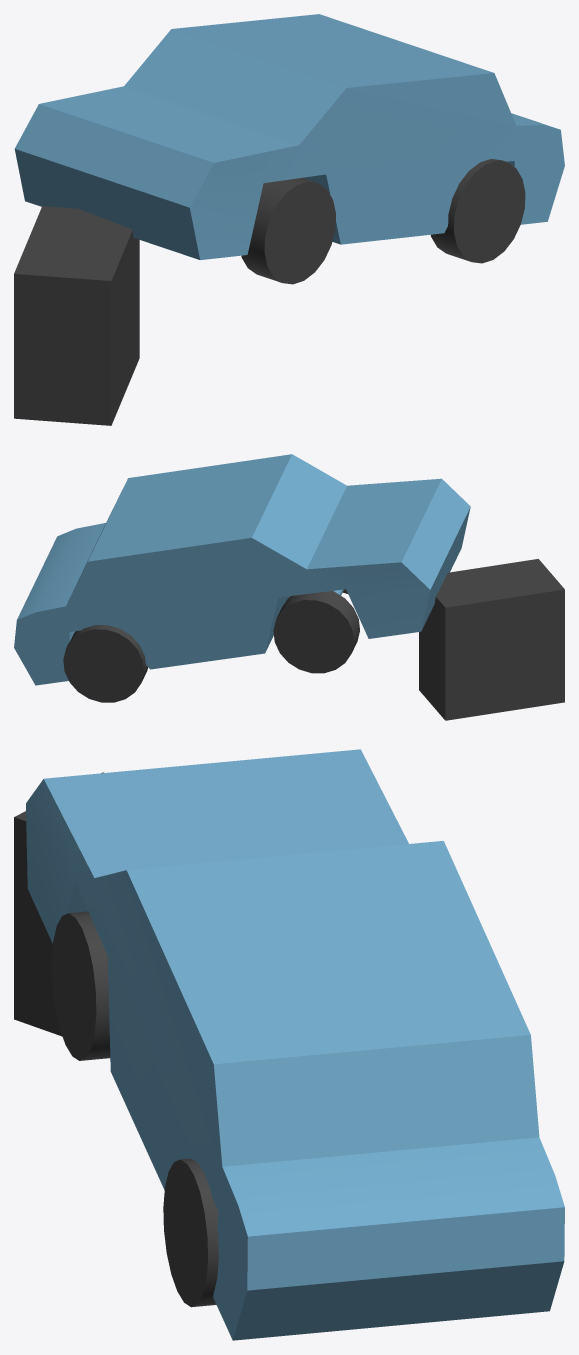
File: TestCar.fbx
3 renders of one model, top to bottom at view 1: azimuth 30°, elevation 25°; view 2: azimuth 150°, elevation 25°; view 3: azimuth 270°, elevation 25°, orthographic. The views are drawn at different scales.
Parts seen in each view (by area): view 1: pCube4, pCube5; view 2: pCube4, pCube5; view 3: pCube4, pCube5.
Part boxes in pixels (x1=…): pCube4: x1=14, y1=14, x2=564, y2=284; pCube5: x1=14, y1=206, x2=139, y2=425; pCube4: x1=14, y1=454, x2=470, y2=702; pCube5: x1=419, y1=559, x2=564, y2=720; pCube4: x1=26, y1=749, x2=564, y2=1340; pCube5: x1=14, y1=772, x2=103, y2=1036.
Size of the model in its own units: 119 by 45.44 by 67.33.
